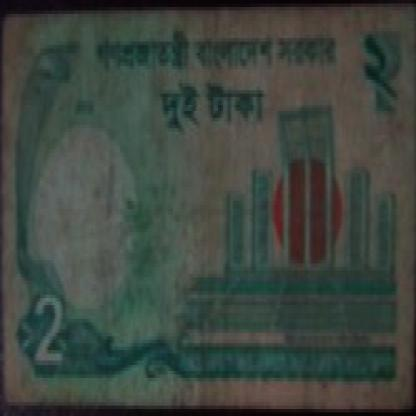two taka: (353, 35, 414, 138), (26, 295, 76, 381)
